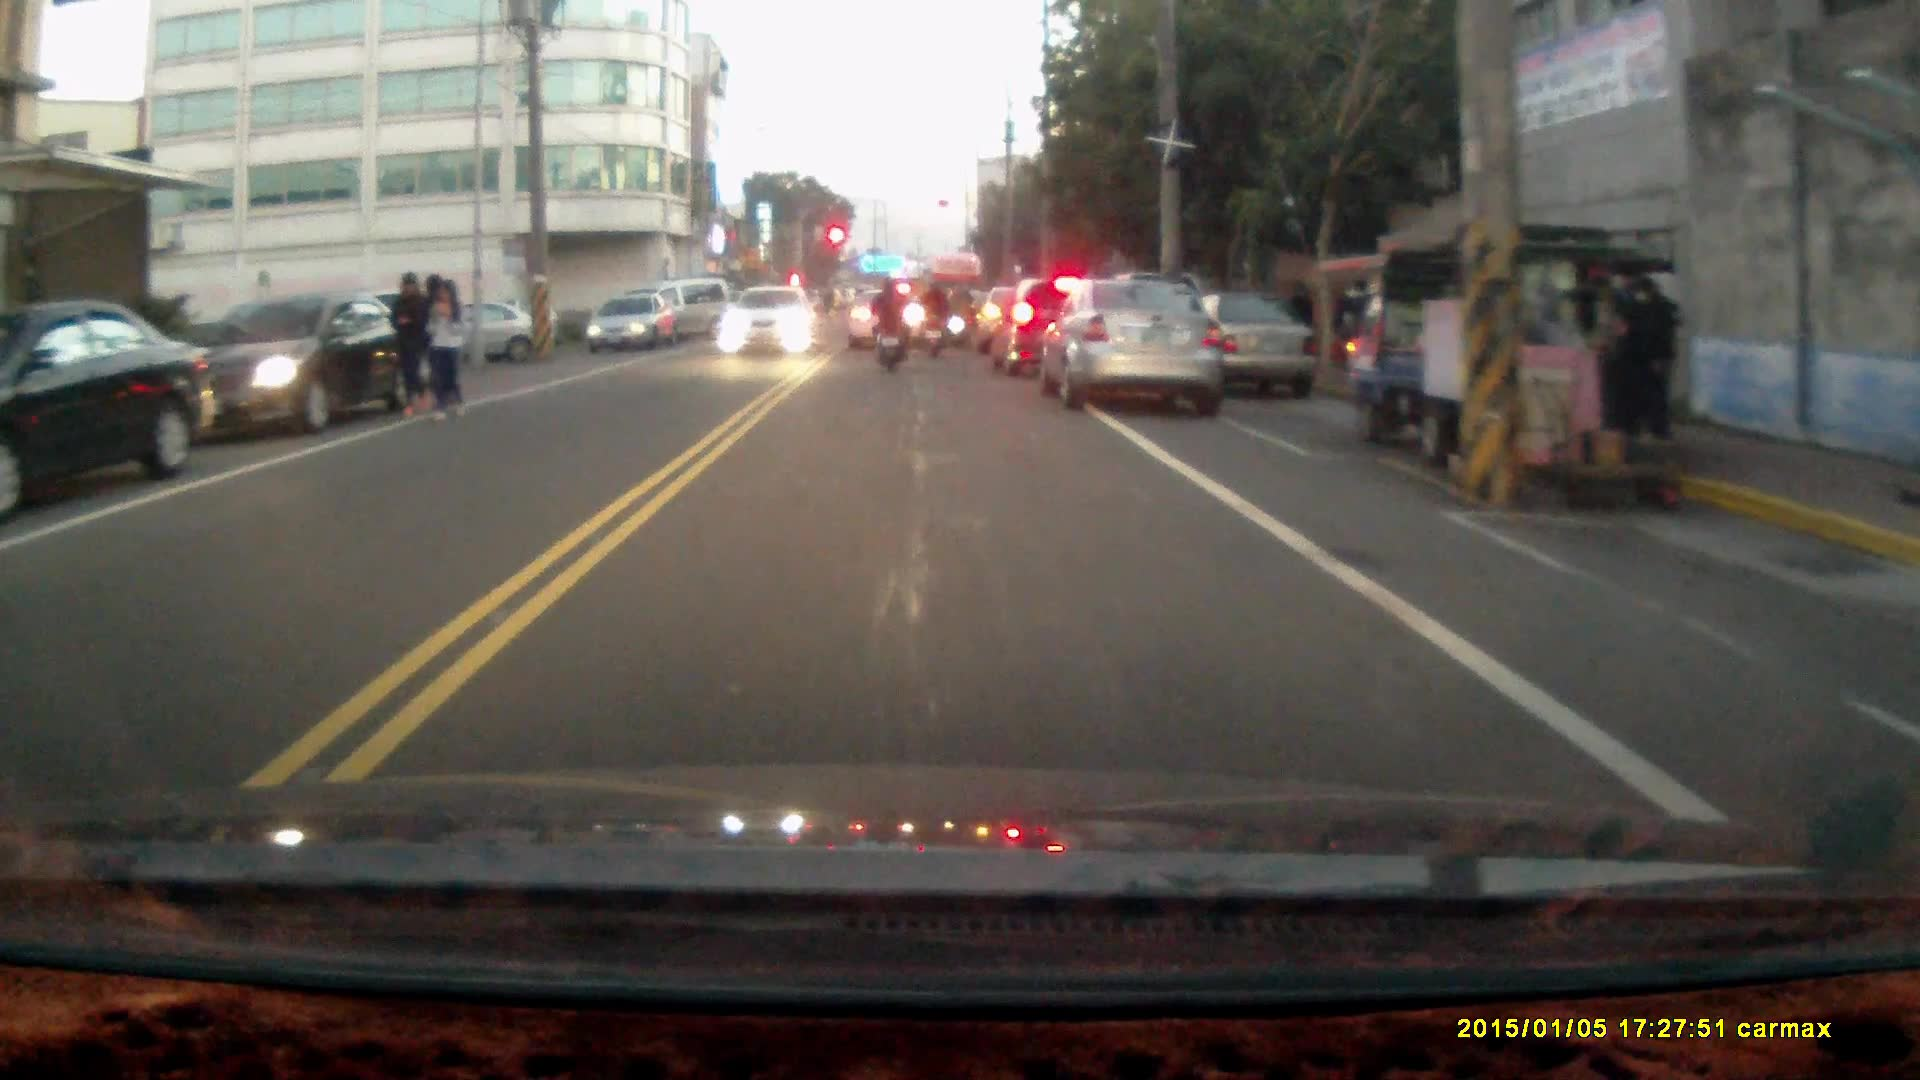pedestrian: (1622, 274, 1682, 442), (391, 278, 435, 433), (427, 285, 469, 435), (1281, 280, 1315, 353)
rider: (867, 277, 909, 372), (917, 282, 949, 360)
vehicle: (1349, 226, 1667, 473), (0, 298, 221, 520), (155, 297, 419, 452), (1046, 275, 1228, 411), (719, 290, 817, 357), (850, 294, 931, 357), (590, 296, 676, 354)
